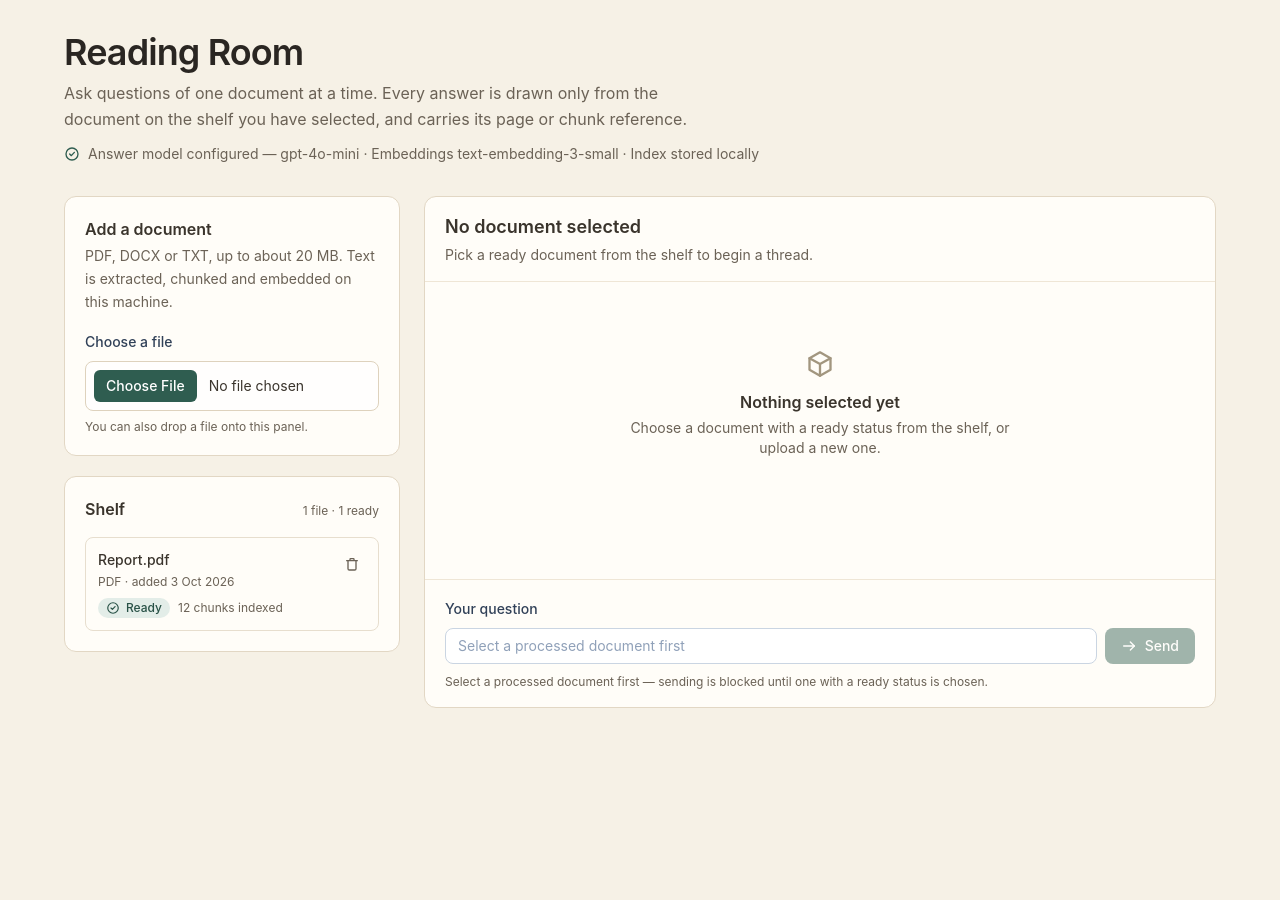
Test: Home screen › deletes a document after confirmation
The image size is (1280, 900).
expect the text "Report.pdf" is shown: met, box [98,551,170,568]
Click the button named "Remove Report.pdf from the shelf" at (352, 564), box [338,550,366,578]
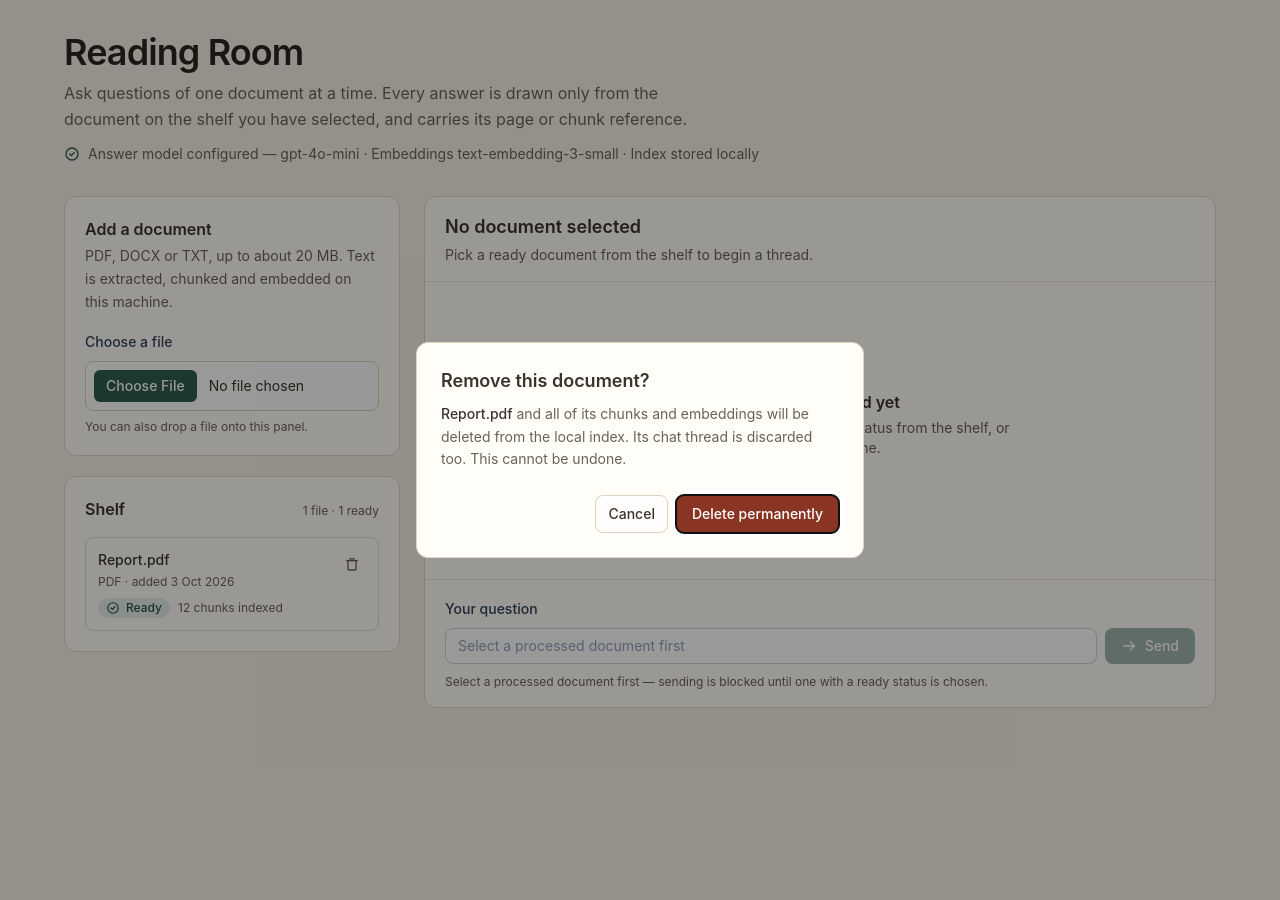
expect the heading "Remove this document?" is shown: met, box [441,370,650,391]
Click the button "Delete permanently" at (758, 514), box [676,495,839,533]
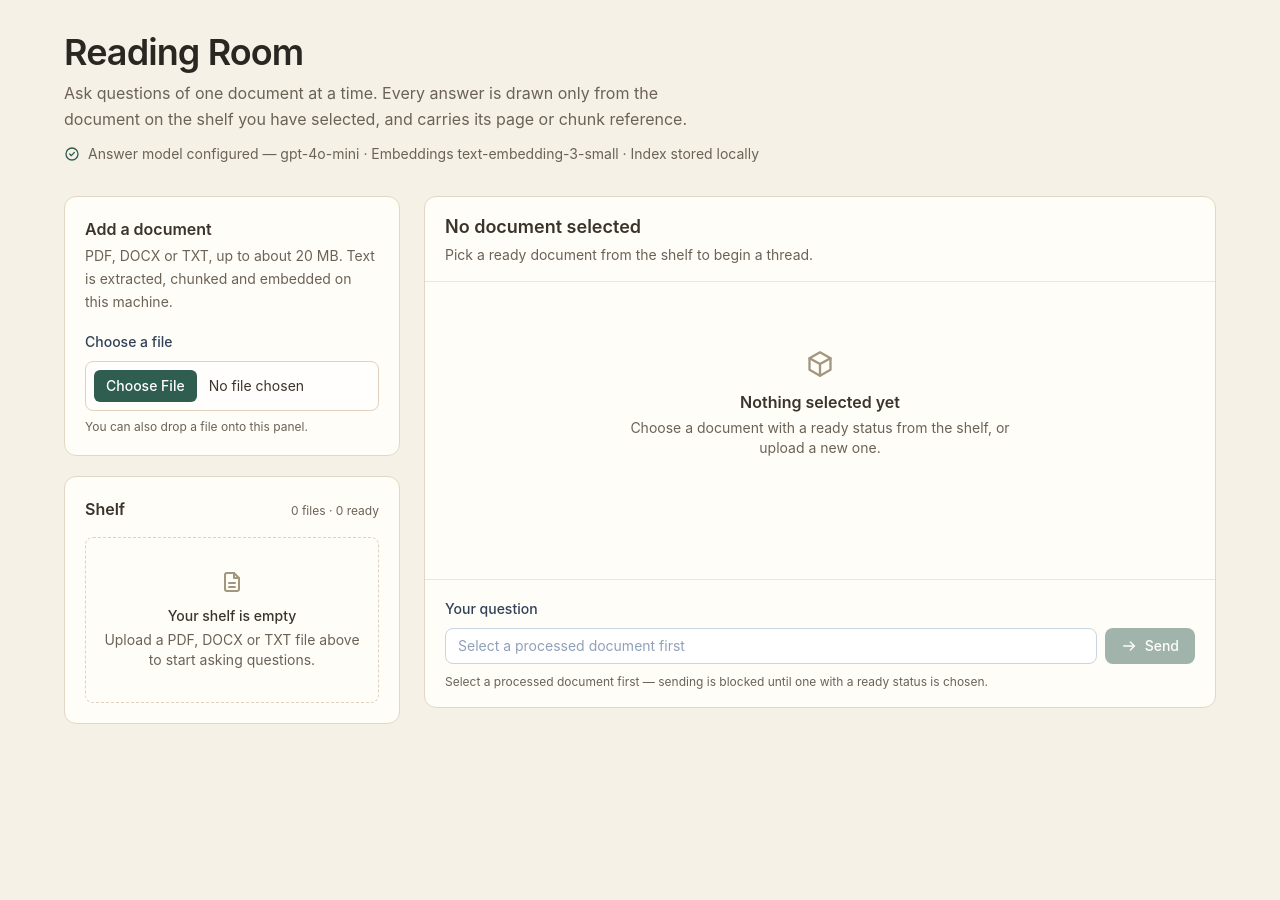
expect the button "Report.pdf" is gone: met
